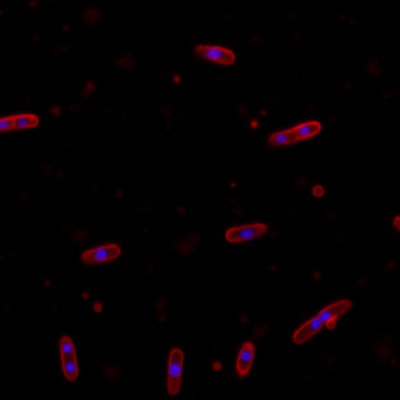CAM: (289, 297, 356, 345), (165, 345, 185, 399), (59, 333, 80, 382), (223, 222, 269, 242), (235, 340, 257, 376)
Oblique: (269, 119, 322, 150), (189, 41, 237, 66), (78, 241, 121, 265)
Vesicle: (310, 183, 325, 198), (171, 71, 182, 86), (79, 290, 92, 301), (212, 360, 223, 372), (92, 301, 102, 312), (250, 117, 258, 129)
